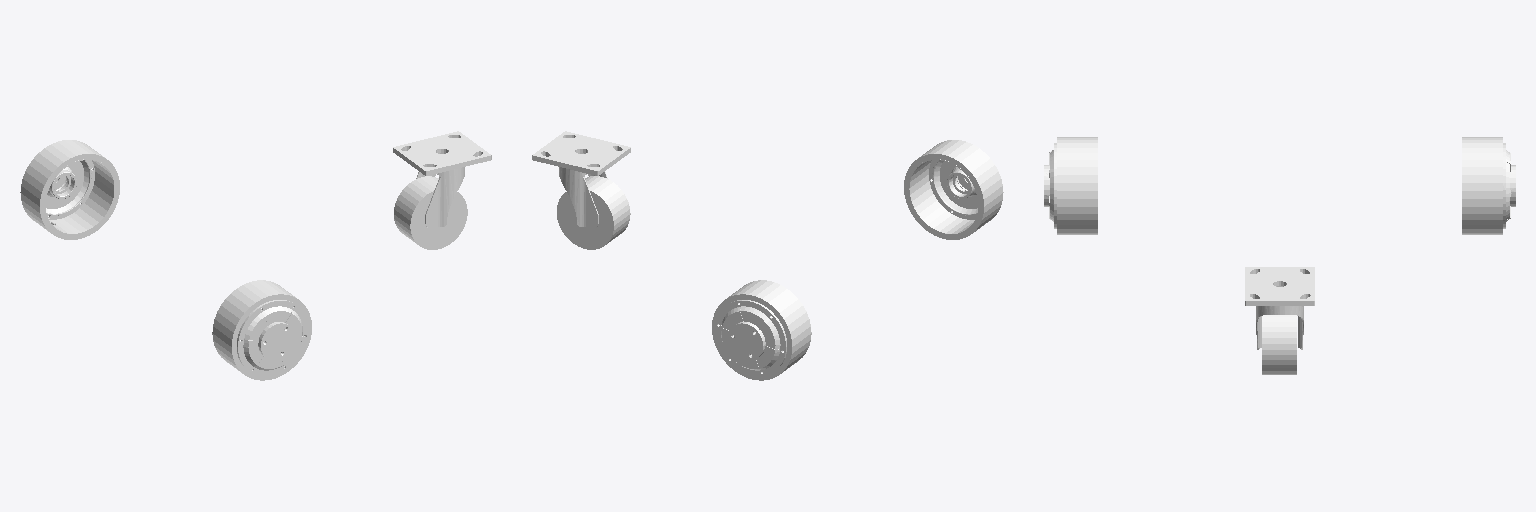
URDF robot description (sunny_gazebo):
<?xml version="1.0" encoding="utf-8"?>
<!-- This URDF was automatically created by SolidWorks to URDF Exporter! Originally created by [author] ([email redacted]) 
     Commit Version: 1.5.0-0-g9aa0fdb  Build Version: 1.5.7004.21443
     For more information, please see http://wiki.ros.org/sw_urdf_exporter -->
<robot
  name="sunny_gazebo">
  <link
    name="base_link">
    <inertial>
      <origin
        xyz="0.17501 0.00094708 0.53203"
        rpy="0 0 0" />
      <mass
        value="18.546" />
      <inertia
        ixx="0.99947"
        ixy="-0.0015622"
        ixz="0.074343"
        iyy="0.53931"
        iyz="0.00096877"
        izz="1.0754" />
    </inertial>
    <visual>
      <origin
        xyz="0 0 0"
        rpy="0 0 0" />
      <geometry>
        <mesh
          filename="package://sunny_gazebo/meshes/base_link.STL" />
      </geometry>
      <material
        name="">
        <color
          rgba="0.75294 0.75294 0.75294 1" />
      </material>
    </visual>
    <collision>
      <origin
        xyz="0 0 0"
        rpy="0 0 0" />
      <geometry>
        <mesh
          filename="package://sunny_gazebo/meshes/base_link.STL" />
      </geometry>
    </collision>
  </link>
  <link
    name="universal_wheel_link">
    <inertial>
      <origin
        xyz="-0.0015321 -3.3133E-08 -0.0047949"
        rpy="0 0 0" />
      <mass
        value="0.10446" />
      <inertia
        ixx="0.00013522"
        ixy="-3.8014E-11"
        ixz="-1.2947E-05"
        iyy="0.00015124"
        iyz="-2.1959E-10"
        izz="0.00018481" />
    </inertial>
    <visual>
      <origin
        xyz="0 0 0"
        rpy="0 0 0" />
      <geometry>
        <mesh
          filename="package://sunny_gazebo/meshes/universal_wheel_link.STL" />
      </geometry>
      <material
        name="">
        <color
          rgba="1 1 1 1" />
      </material>
    </visual>
    <collision>
      <origin
        xyz="0 0 0"
        rpy="0 0 0" />
      <geometry>
        <mesh
          filename="package://sunny_gazebo/meshes/universal_wheel_link.STL" />
      </geometry>
    </collision>
  </link>
  <joint
    name="joint_uw"
    type="continuous">
    <origin
      xyz="0.48 0 0.069"
      rpy="0 0 0" />
    <parent
      link="base_link" />
    <child
      link="universal_wheel_link" />
    <axis
      xyz="0 0 -1" />
    <safety_controller
      k_velocity="0" />
  </joint>
  <link
    name="front_wheel_link">
    <inertial>
      <origin
        xyz="0 0 -6.9389E-18"
        rpy="0 0 0" />
      <mass
        value="0.3927" />
      <inertia
        ixx="0.00032725"
        ixy="-2.2442E-20"
        ixz="-4.2592E-37"
        iyy="0.00049087"
        iyz="8.35E-21"
        izz="0.00032725" />
    </inertial>
    <visual>
      <origin
        xyz="0 0 0"
        rpy="0 0 0" />
      <geometry>
        <mesh
          filename="package://sunny_gazebo/meshes/front_wheel_link.STL" />
      </geometry>
      <material
        name="">
        <color
          rgba="1 1 1 1" />
      </material>
    </visual>
    <collision>
      <origin
        xyz="0 0 0"
        rpy="0 0 0" />
      <geometry>
        <mesh
          filename="package://sunny_gazebo/meshes/front_wheel_link.STL" />
      </geometry>
    </collision>
  </link>
  <joint
    name="joint_fw"
    type="continuous">
    <origin
      xyz="-0.020405 -0.00041802 -0.097845"
      rpy="0 0 0" />
    <parent
      link="universal_wheel_link" />
    <child
      link="front_wheel_link" />
    <axis
      xyz="0 1 0" />
    <safety_controller
      k_velocity="0" />
  </joint>
  <link
    name="left_wheel_link">
    <inertial>
      <origin
        xyz="1.431E-06 -0.0012631 -1.4578E-05"
        rpy="0 0 0" />
      <mass
        value="0.73904" />
      <inertia
        ixx="0.0011472"
        ixy="-8.5864E-08"
        ixz="-2.5883E-08"
        iyy="0.0019347"
        iyz="3.1564E-08"
        izz="0.0011471" />
    </inertial>
    <visual>
      <origin
        xyz="0 0 0"
        rpy="0 0 0" />
      <geometry>
        <mesh
          filename="package://sunny_gazebo/meshes/left_wheel_link.STL" />
      </geometry>
      <material
        name="">
        <color
          rgba="1 1 1 1" />
      </material>
    </visual>
    <collision>
      <origin
        xyz="0 0 0"
        rpy="0 0 0" />
      <geometry>
        <mesh
          filename="package://sunny_gazebo/meshes/left_wheel_link.STL" />
      </geometry>
    </collision>
  </link>
  <joint
    name="joint_lw"
    type="continuous">
    <origin
      xyz="0 0.289 0"
      rpy="0 0 0" />
    <parent
      link="base_link" />
    <child
      link="left_wheel_link" />
    <axis
      xyz="0 1 0" />
    <safety_controller
      k_velocity="0" />
  </joint>
  <link
    name="right_wheel_link">
    <inertial>
      <origin
        xyz="-1.431E-06 0.0012631 -1.4578E-05"
        rpy="0 0 0" />
      <mass
        value="0.73904" />
      <inertia
        ixx="0.0011472"
        ixy="-8.5864E-08"
        ixz="2.5883E-08"
        iyy="0.0019347"
        iyz="-3.1564E-08"
        izz="0.0011471" />
    </inertial>
    <visual>
      <origin
        xyz="0 0 0"
        rpy="0 0 0" />
      <geometry>
        <mesh
          filename="package://sunny_gazebo/meshes/right_wheel_link.STL" />
      </geometry>
      <material
        name="">
        <color
          rgba="1 1 1 1" />
      </material>
    </visual>
    <collision>
      <origin
        xyz="0 0 0"
        rpy="0 0 0" />
      <geometry>
        <mesh
          filename="package://sunny_gazebo/meshes/right_wheel_link.STL" />
      </geometry>
    </collision>
  </link>
  <joint
    name="joint_rw"
    type="continuous">
    <origin
      xyz="0 -0.289 0"
      rpy="0 0 0" />
    <parent
      link="base_link" />
    <child
      link="right_wheel_link" />
    <axis
      xyz="0 1 0" />
    <safety_controller
      k_velocity="0" />
  </joint>
</robot>

--- Render facts (derived) ---
Views: 3 orthographic renders of the robot side by side, from view 1: azimuth 30°, elevation 25°; view 2: azimuth 150°, elevation 25°; view 3: azimuth 270°, elevation 25°.
Model sunny_gazebo with 5 links and 4 joints (4 continuous), rooted at base_link, posed all joints at 0.
Visible links, largest first — view 1: right_wheel_link, left_wheel_link, universal_wheel_link, front_wheel_link; view 2: right_wheel_link, left_wheel_link, universal_wheel_link, front_wheel_link; view 3: right_wheel_link, left_wheel_link, universal_wheel_link, front_wheel_link.
Link boxes in pixels (x1,y1,x2,y2): right_wheel_link: (212, 280, 311, 380); left_wheel_link: (20, 140, 119, 239); universal_wheel_link: (393, 131, 491, 228); front_wheel_link: (394, 176, 467, 249); right_wheel_link: (904, 140, 1003, 239); left_wheel_link: (712, 280, 811, 380); universal_wheel_link: (532, 131, 630, 228); front_wheel_link: (557, 176, 630, 249); right_wheel_link: (1044, 137, 1097, 234); left_wheel_link: (1462, 137, 1515, 234); universal_wheel_link: (1245, 267, 1314, 349); front_wheel_link: (1262, 315, 1296, 374).
Bounding box of the posed robot: 0.6075 × 0.6724 × 0.1484 m (x, y, z).
4 mesh visuals loaded from 5 distinct referenced files (4 binary STL); not drawn: 1 (reference not matched to a file when rendering).